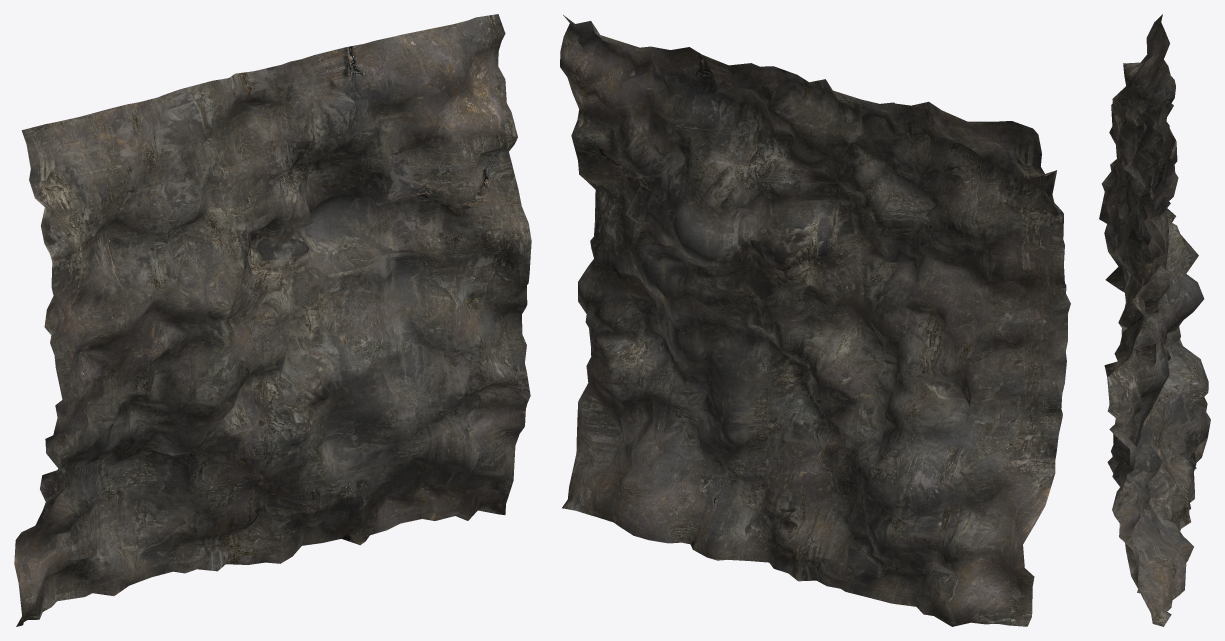
The model's file is Wall_3.fbx.
3 renders of one model, left to right at view 1: azimuth 30°, elevation 25°; view 2: azimuth 150°, elevation 25°; view 3: azimuth 270°, elevation 25°, orthographic. The views are drawn at different scales.
Visible parts, largest first — view 1: Wall_3; view 2: Wall_3; view 3: Wall_3.
Part boxes in pixels (bbox=[...]): Wall_3: bbox=[14, 14, 531, 626]; Wall_3: bbox=[560, 15, 1070, 626]; Wall_3: bbox=[1099, 14, 1210, 626].
Bounding box in the file's own units: 407 × 403 × 97.2.
